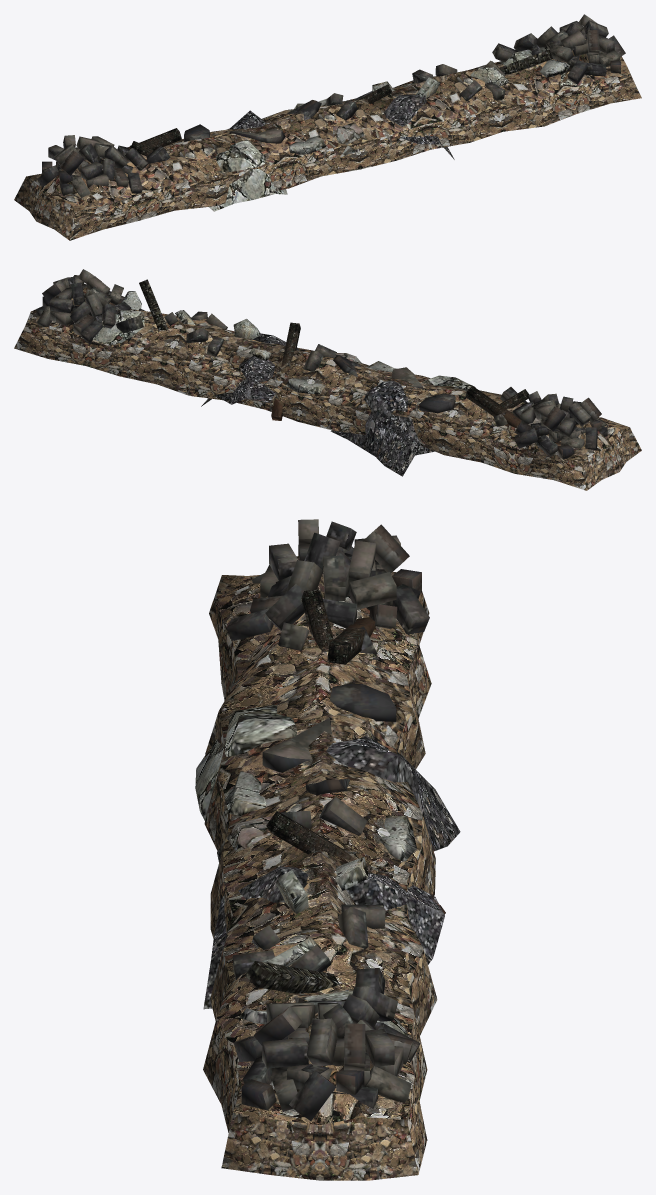
Rendered from rubble_stone_wall_long.glb.
The picture shows the model from 3 angles, top to bottom: view 1: azimuth 30°, elevation 25°; view 2: azimuth 150°, elevation 25°; view 3: azimuth 270°, elevation 25°; orthographic projection. The views are drawn at different scales.
Visible parts, largest first — view 1: rubble_stone_wall_long_part0; view 2: rubble_stone_wall_long_part0; view 3: rubble_stone_wall_long_part0.
Part boxes in pixels (<box>): rubble_stone_wall_long_part0: <box>14,14,641,240</box>; rubble_stone_wall_long_part0: <box>14,269,641,490</box>; rubble_stone_wall_long_part0: <box>195,519,460,1180</box>.
Bounding box in the file's own units: 8.04 × 1.13 × 1.57.
Materials: 1 (1 with a texture image).
